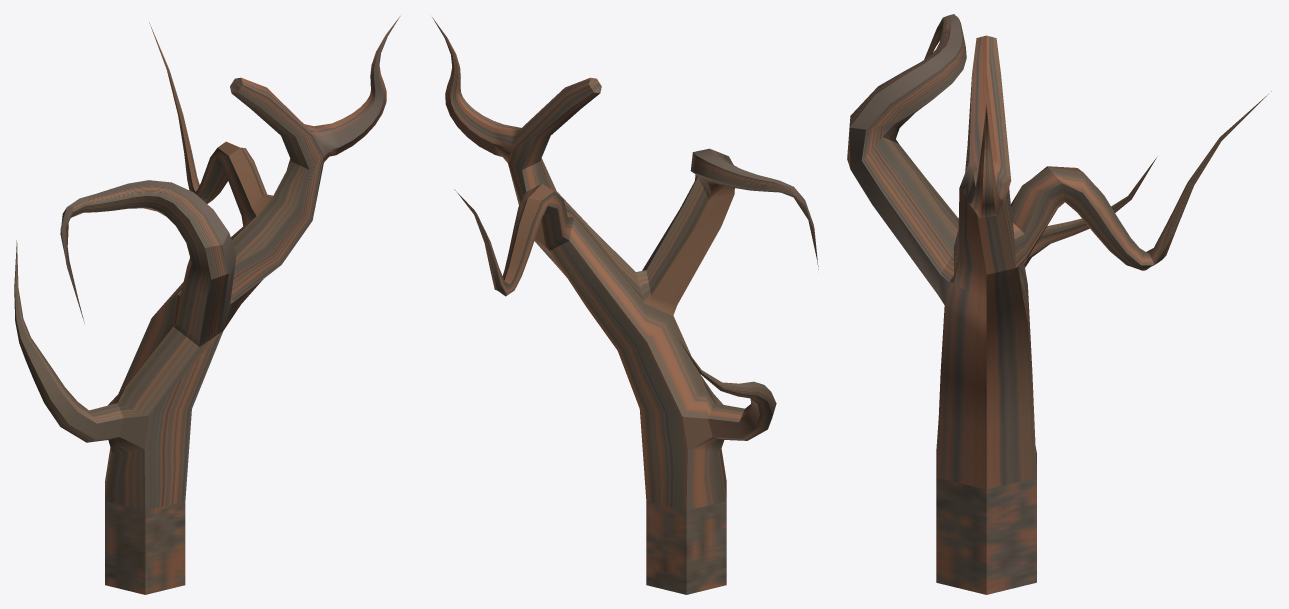
The model's file is Dead Tree.fbx.
3 renders of one model, left to right at view 1: azimuth 30°, elevation 25°; view 2: azimuth 150°, elevation 25°; view 3: azimuth 270°, elevation 25°, orthographic. The views are drawn at different scales.
Visible parts, largest first — view 1: pCylinder1; view 2: pCylinder1; view 3: pCylinder1.
Part boxes in pixels (<box>): pCylinder1: <box>14,16,400,594</box>; pCylinder1: <box>432,17,818,594</box>; pCylinder1: <box>847,14,1271,594</box>.
Bounding box in the file's own units: 8.95 × 11.86 × 7.36.
